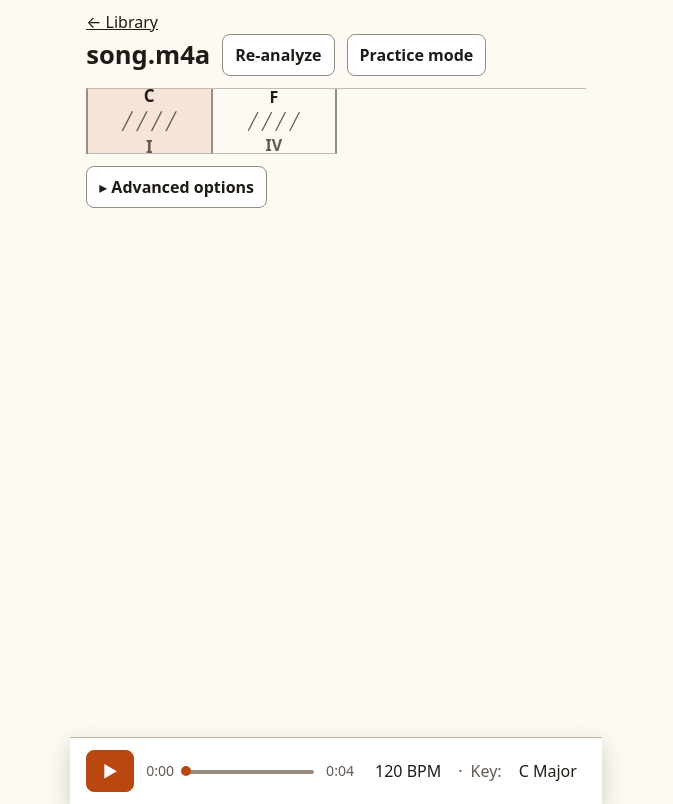
Test: transpose, beats/measure, and add-segment stay behind Advanced options
Expected: the text "I" is shown, x1=146 y1=134 x2=153 y2=153
Expected: the button with aria-label "tempo:" is shown, x1=366 y1=754 x2=450 y2=788
Click the button "▸ Advanced options" at (177, 187), box x1=86 y1=166 x2=267 y2=208
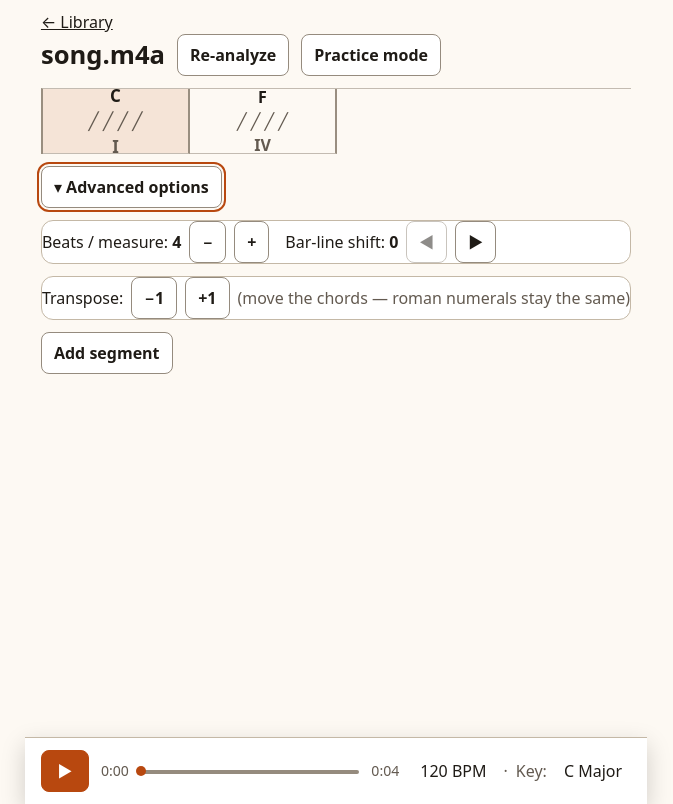
Expected: the button "+1" is shown, x1=185 y1=277 x2=230 y2=319
Expected: the text "Beats / measure: 4" is shown, x1=42 y1=230 x2=181 y2=254
Expected: the text "Bar-line shift: 0" is shown, x1=285 y1=230 x2=398 y2=254
Click the button "▾ Advanced options" at (131, 187), box x1=41 y1=166 x2=222 y2=208
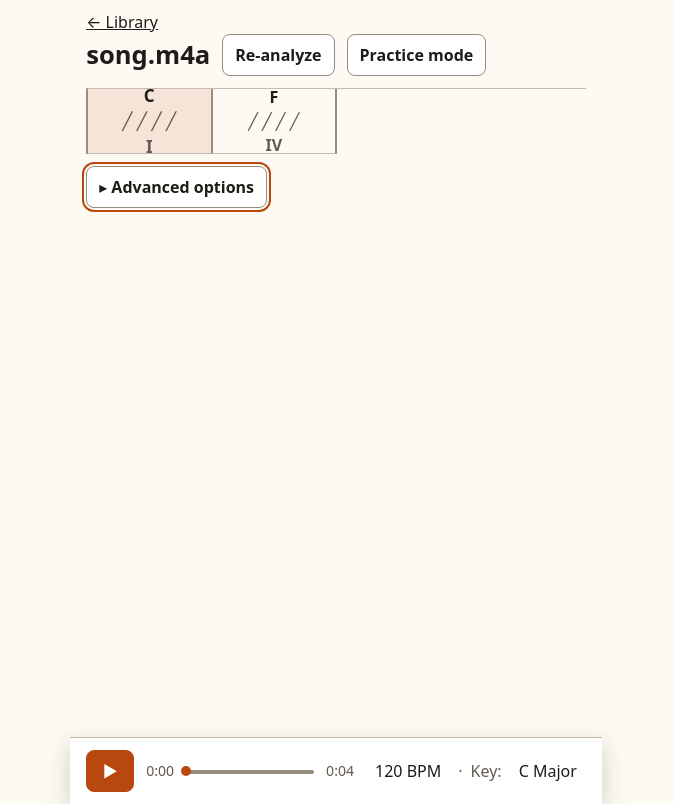
Expected: the text "Beats / measure" is gone
Expected: the button "Add segment" is gone
